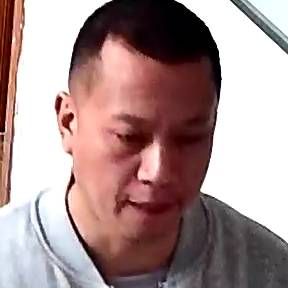qg: (57, 32, 259, 234)
